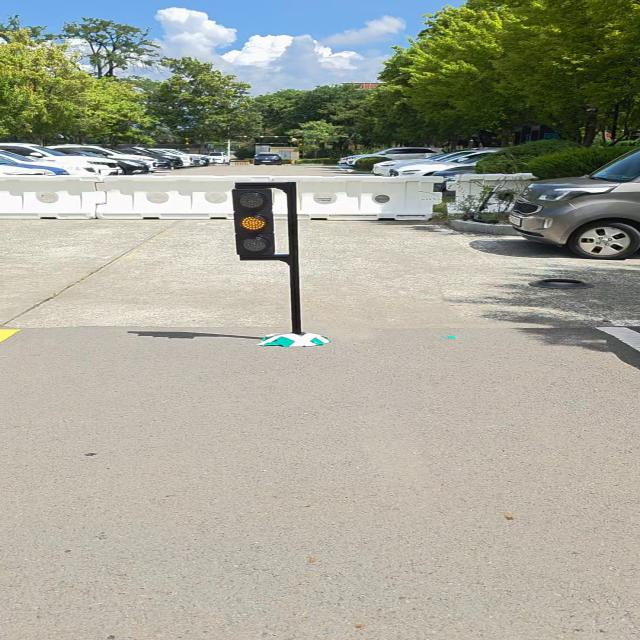yellow: (231, 188, 275, 256)
